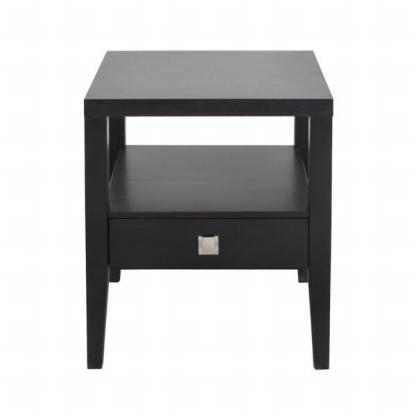table: (84, 44, 330, 370)
